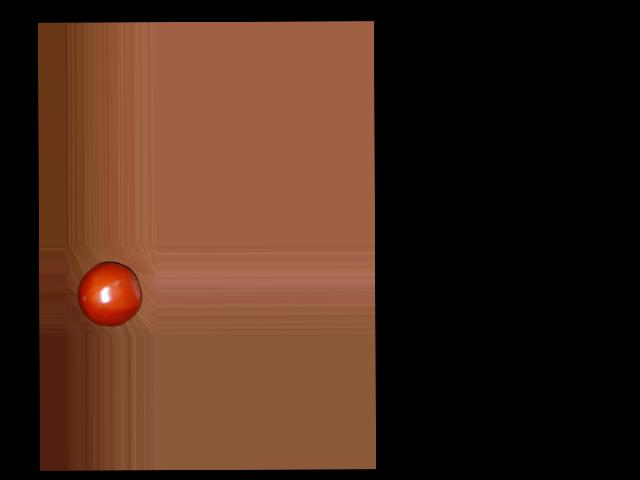tomato: (77, 262, 141, 327)
